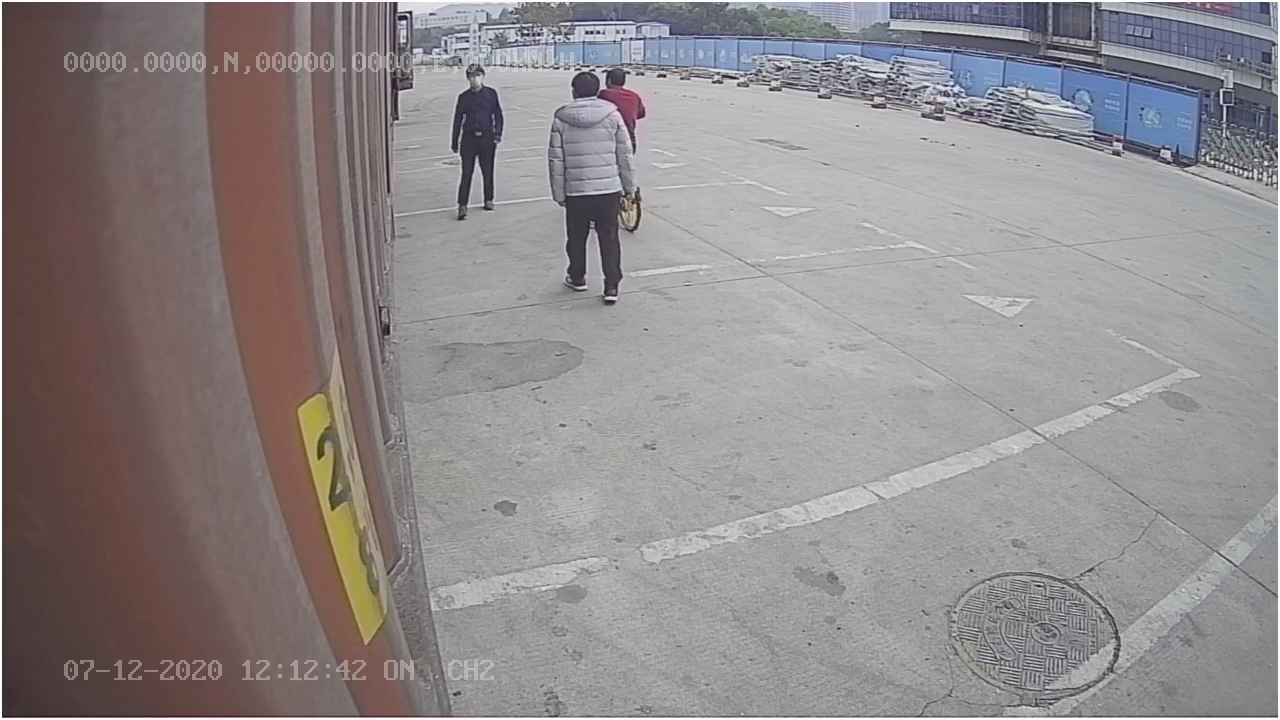person: (544, 64, 638, 306)
